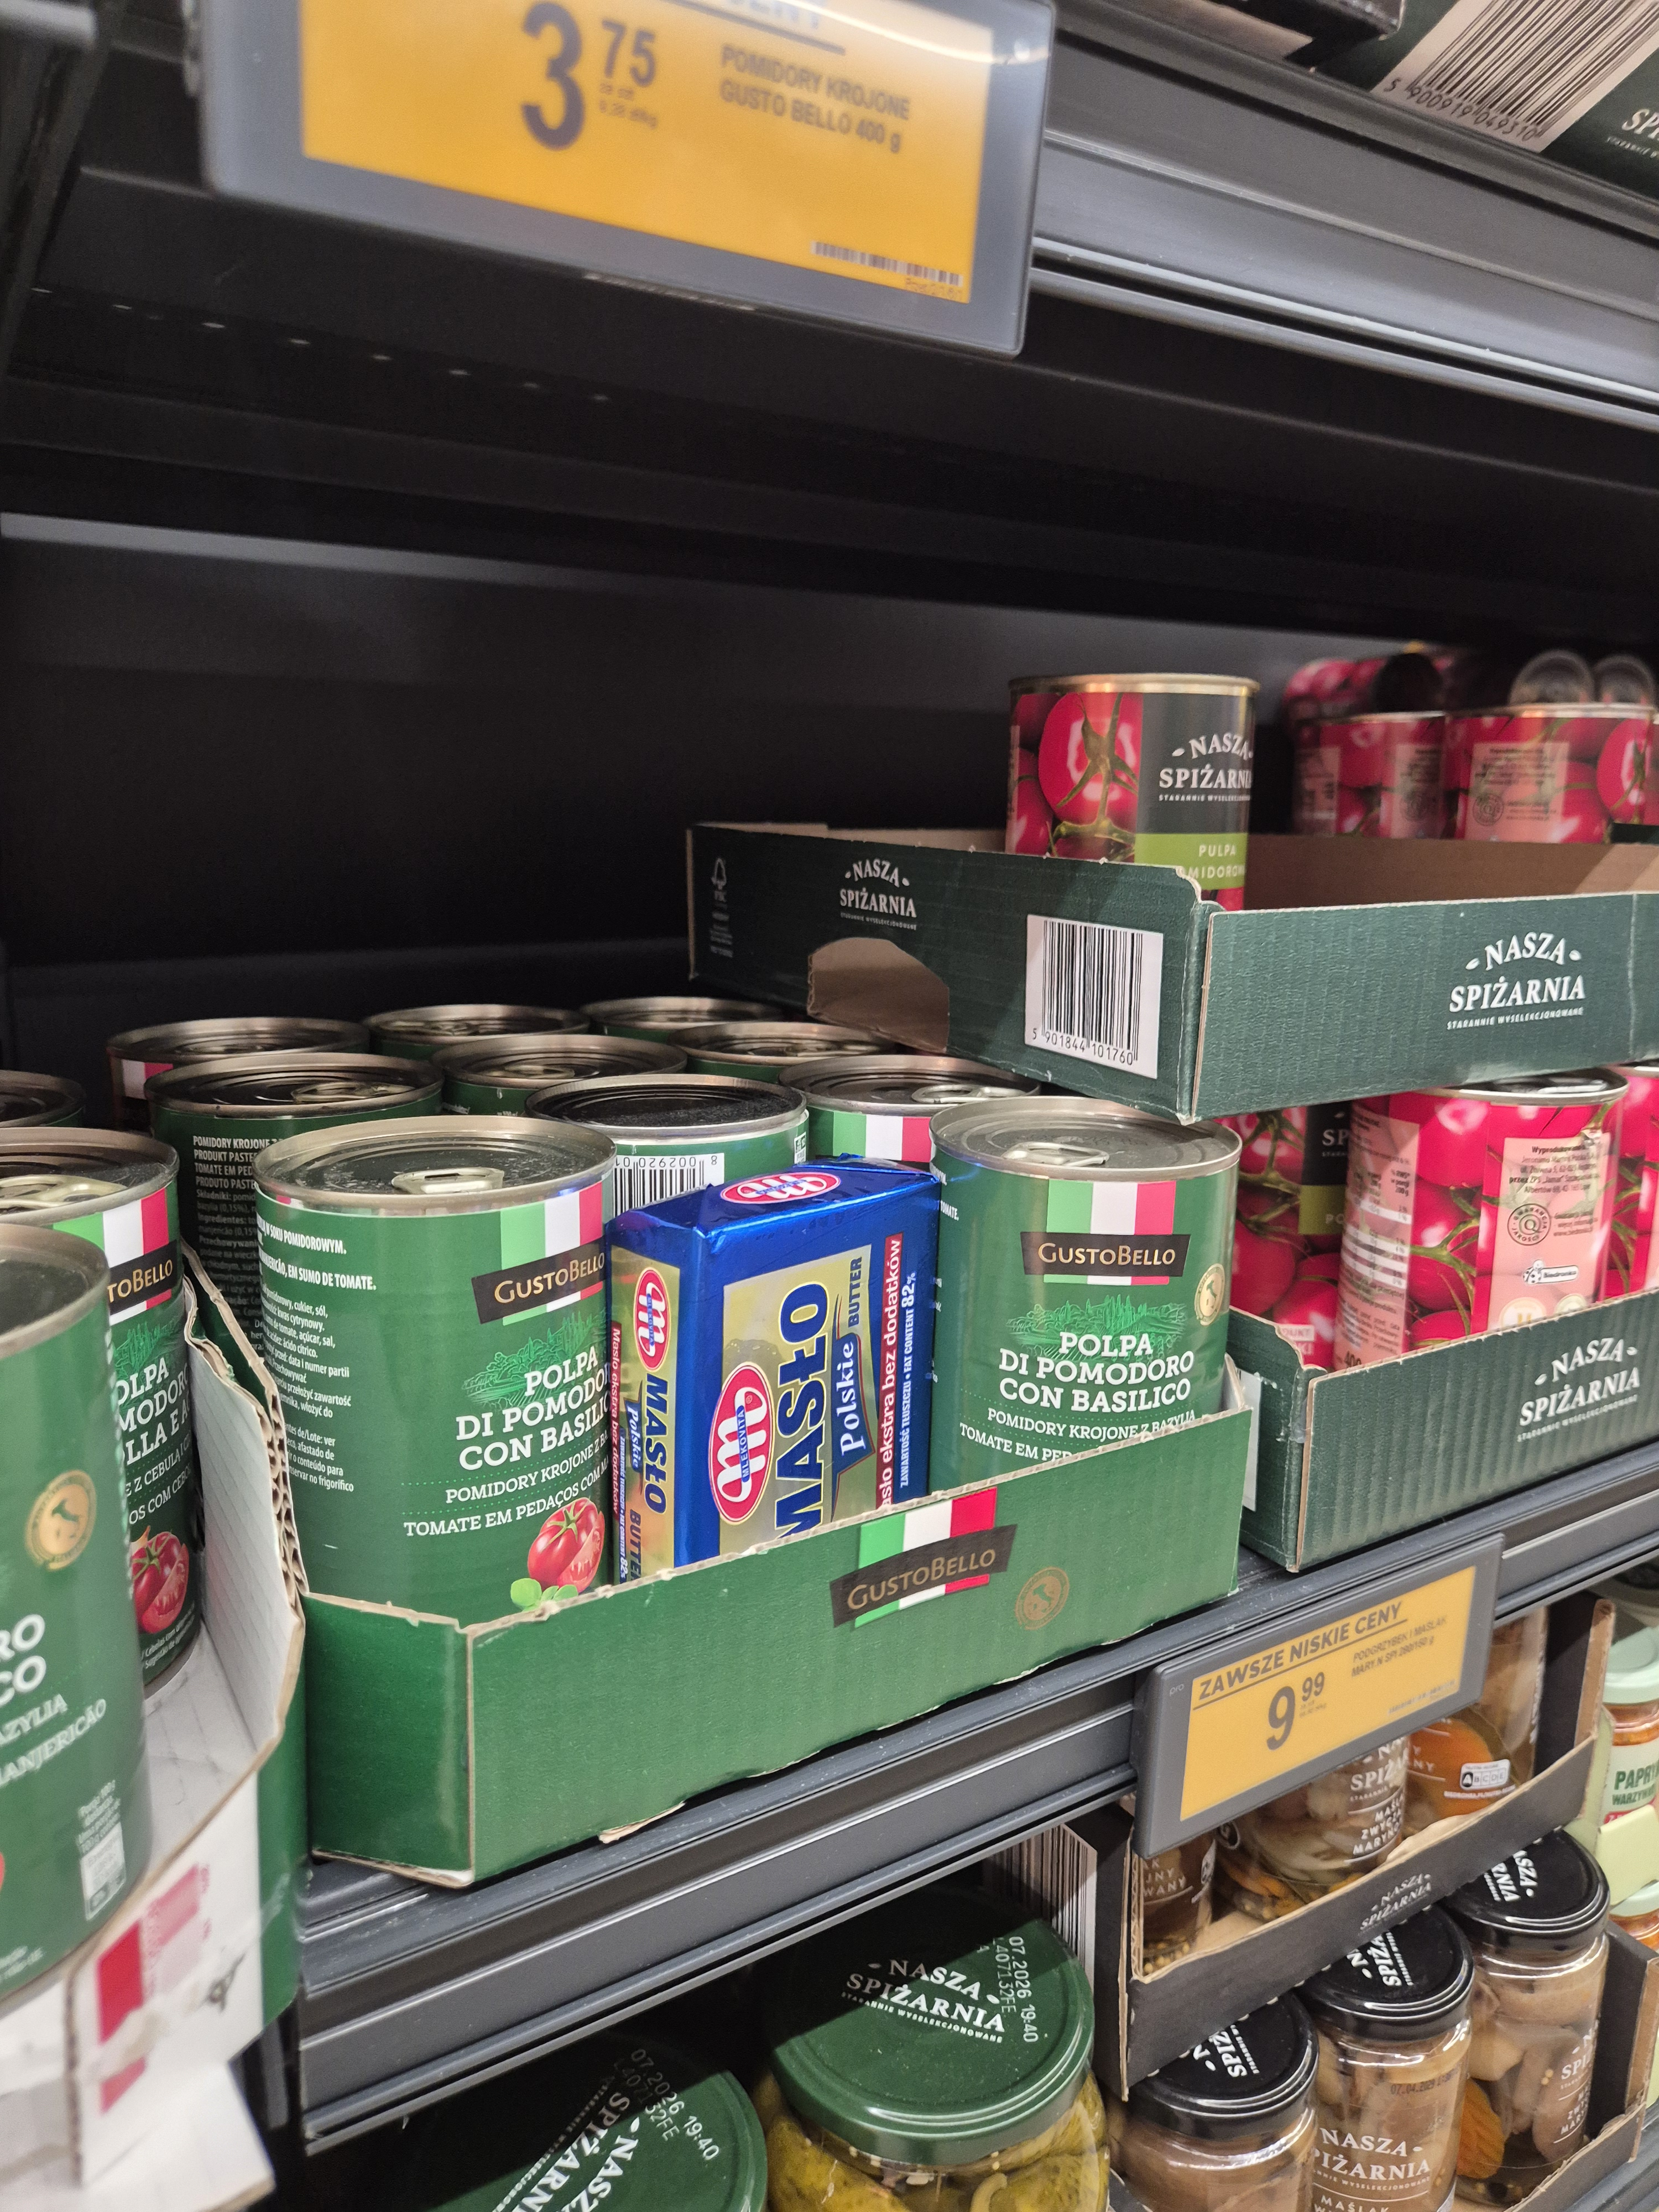Butter: (613, 1151, 965, 1602)
